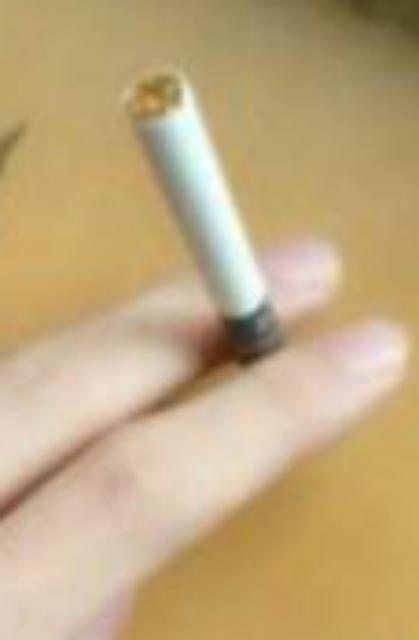Smoking: (119, 64, 298, 392)
